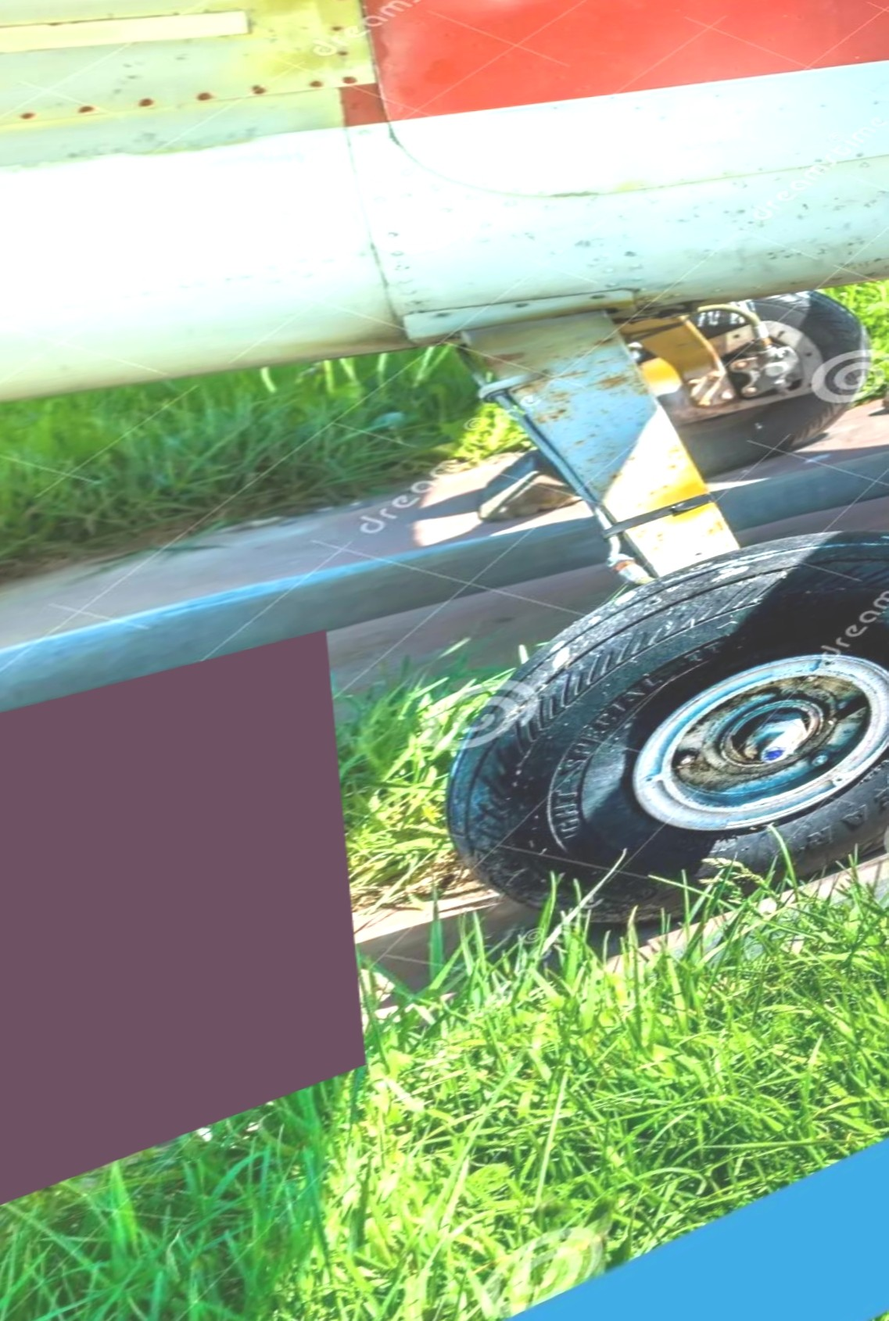chock: (0, 824, 405, 1317), (466, 426, 586, 537)
wheel: (423, 476, 889, 1014), (653, 277, 880, 481)
